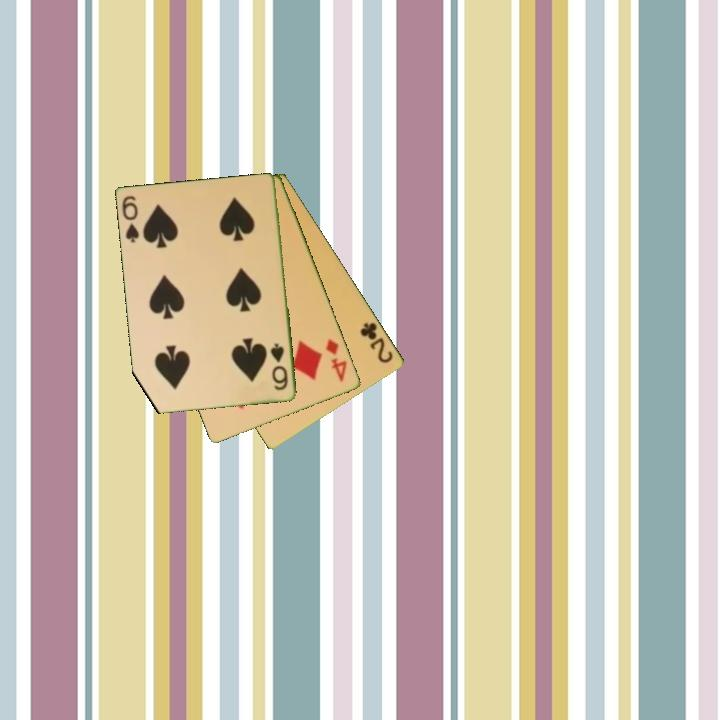2c: (357, 319, 396, 366)
4d: (323, 336, 350, 385)
6s: (267, 340, 291, 393), (119, 192, 142, 246)
